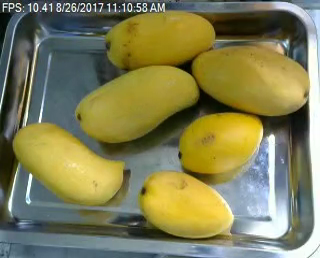Mango: (10, 120, 127, 216), (74, 65, 201, 146), (186, 44, 313, 117), (97, 10, 217, 72), (140, 166, 236, 240), (174, 107, 263, 178)
